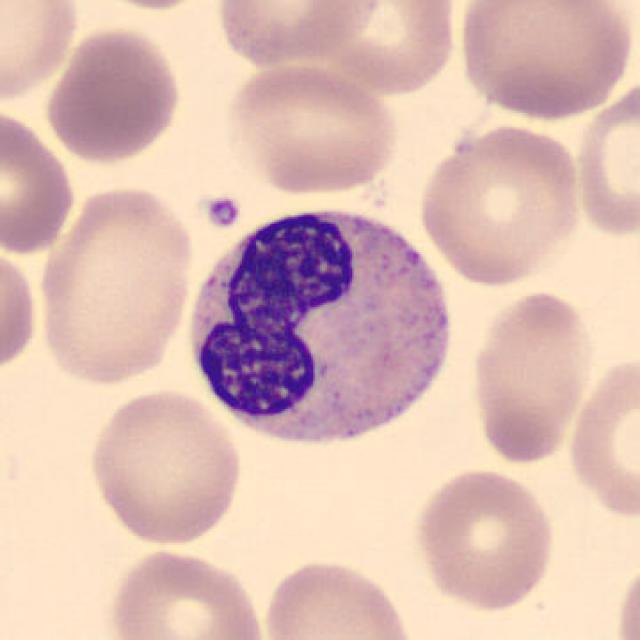Neutrophil: (178, 190, 464, 464)
Platelets: (199, 190, 245, 233)
RBC: (32, 180, 197, 388), (412, 120, 585, 289), (84, 386, 247, 547), (220, 58, 402, 199), (464, 286, 597, 469), (409, 464, 560, 614), (452, 0, 634, 122), (41, 23, 187, 166), (297, 0, 462, 99), (103, 545, 269, 640), (257, 553, 419, 640), (563, 349, 640, 523), (569, 70, 640, 244), (212, 0, 382, 71), (0, 104, 78, 257), (0, 0, 83, 109), (0, 240, 41, 379), (611, 552, 640, 640), (69, 0, 224, 14)
